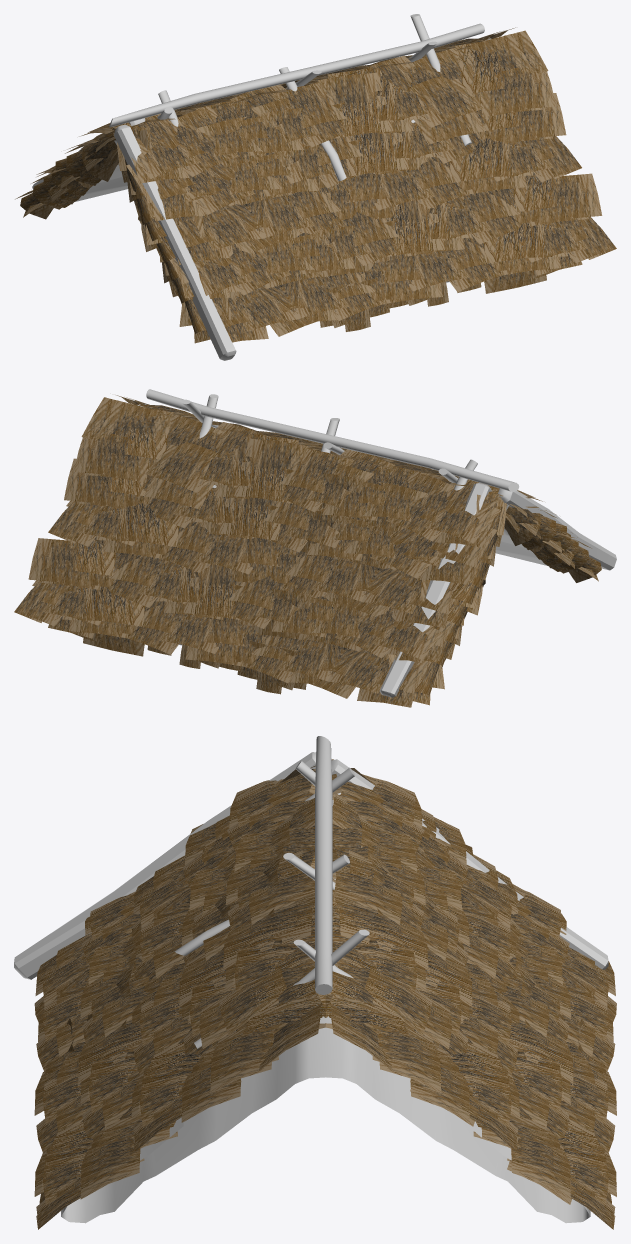
Rendered from SM_barnRoofEnd4m_a1.fbx.
The picture shows the model from 3 angles, top to bottom: view 1: azimuth 30°, elevation 25°; view 2: azimuth 150°, elevation 25°; view 3: azimuth 270°, elevation 25°; orthographic projection. The views are drawn at different scales.
Visible parts, largest first — view 1: SM_barnRoofEnd4m_a1_LOD0; view 2: SM_barnRoofEnd4m_a1_LOD0; view 3: SM_barnRoofEnd4m_a1_LOD0.
Part boxes in pixels (left/top/right/bottom): SM_barnRoofEnd4m_a1_LOD0: left=15, top=14, right=616, bottom=360; SM_barnRoofEnd4m_a1_LOD0: left=14, top=389, right=616, bottom=707; SM_barnRoofEnd4m_a1_LOD0: left=14, top=736, right=616, bottom=1229.
Bounding box in the file's own units: 497 × 432 × 212.
Materials: 4 (1 with a texture image).
